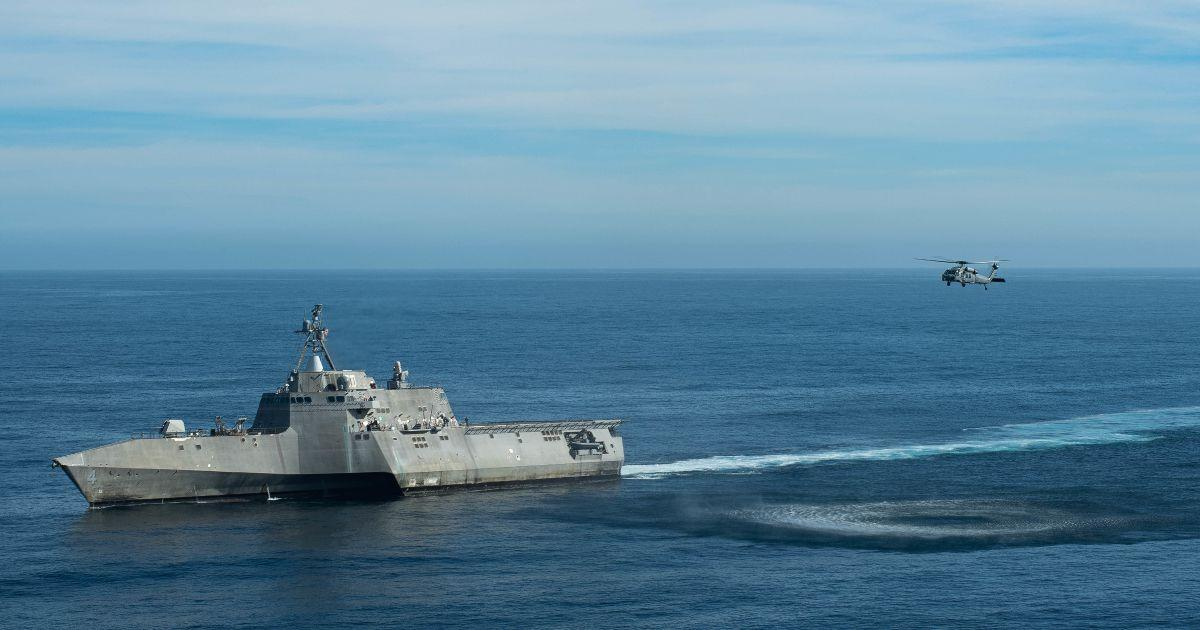Ship: (50, 341, 650, 528)
